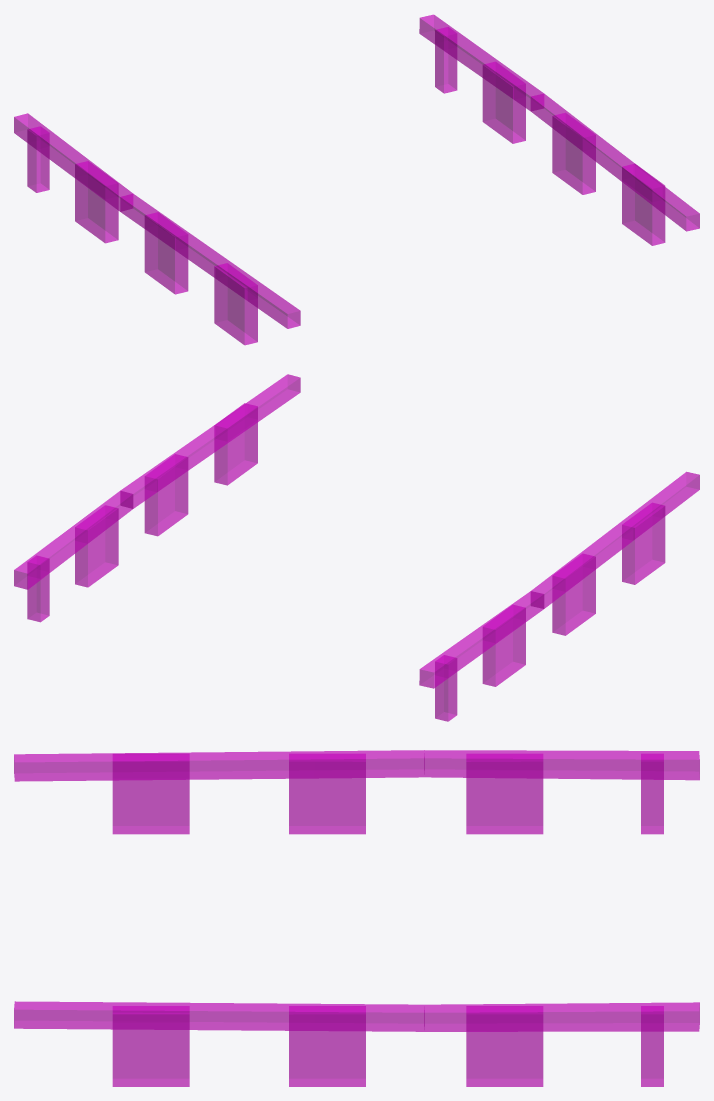
The model's file is SM_Veh_Ship_L_Middle_01_Collision.fbx.
The picture shows the model from 3 angles, top to bottom: view 1: azimuth 30°, elevation 25°; view 2: azimuth 150°, elevation 25°; view 3: azimuth 270°, elevation 25°; orthographic projection. The views are drawn at different scales.
Parts seen in each view (by area): view 1: SM_Veh_Ship_L_Middle_01_Collision; view 2: SM_Veh_Ship_L_Middle_01_Collision; view 3: SM_Veh_Ship_L_Middle_01_Collision.
Boxes of the visible parts, x1=… form: SM_Veh_Ship_L_Middle_01_Collision: x1=14, y1=14, x2=699, y2=345; SM_Veh_Ship_L_Middle_01_Collision: x1=14, y1=374, x2=699, y2=721; SM_Veh_Ship_L_Middle_01_Collision: x1=14, y1=750, x2=699, y2=1086.
Bounding box in the file's own units: 1007 × 135 × 1112.
